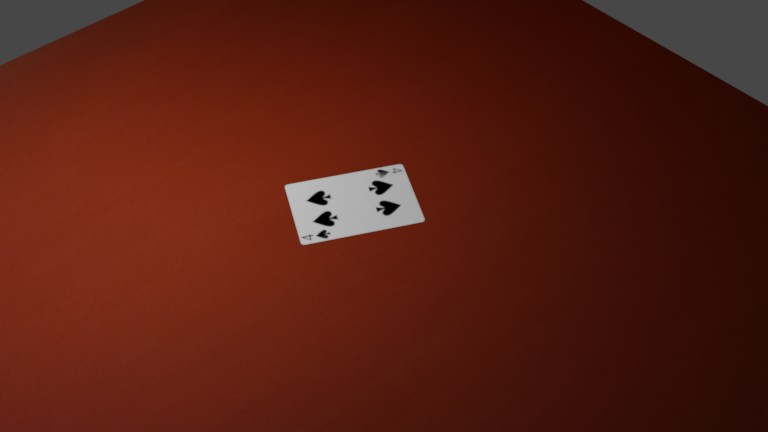4_of_spades: (120, 91, 133, 98), (150, 66, 162, 72)
